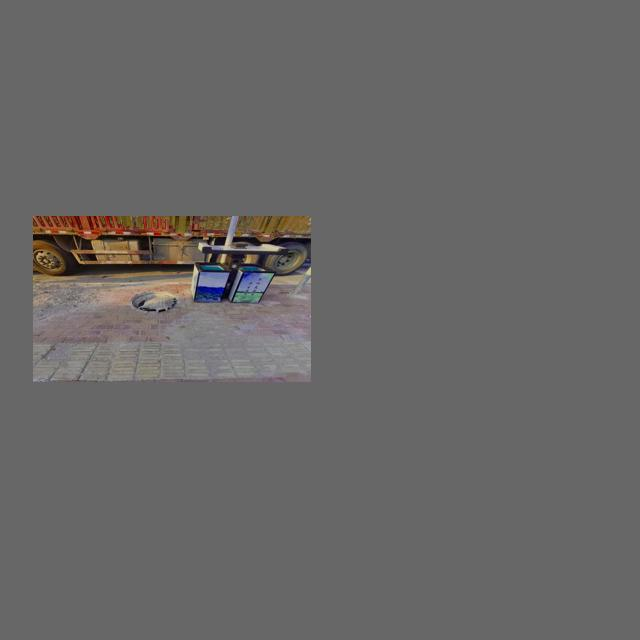broke: (124, 286, 185, 320)
